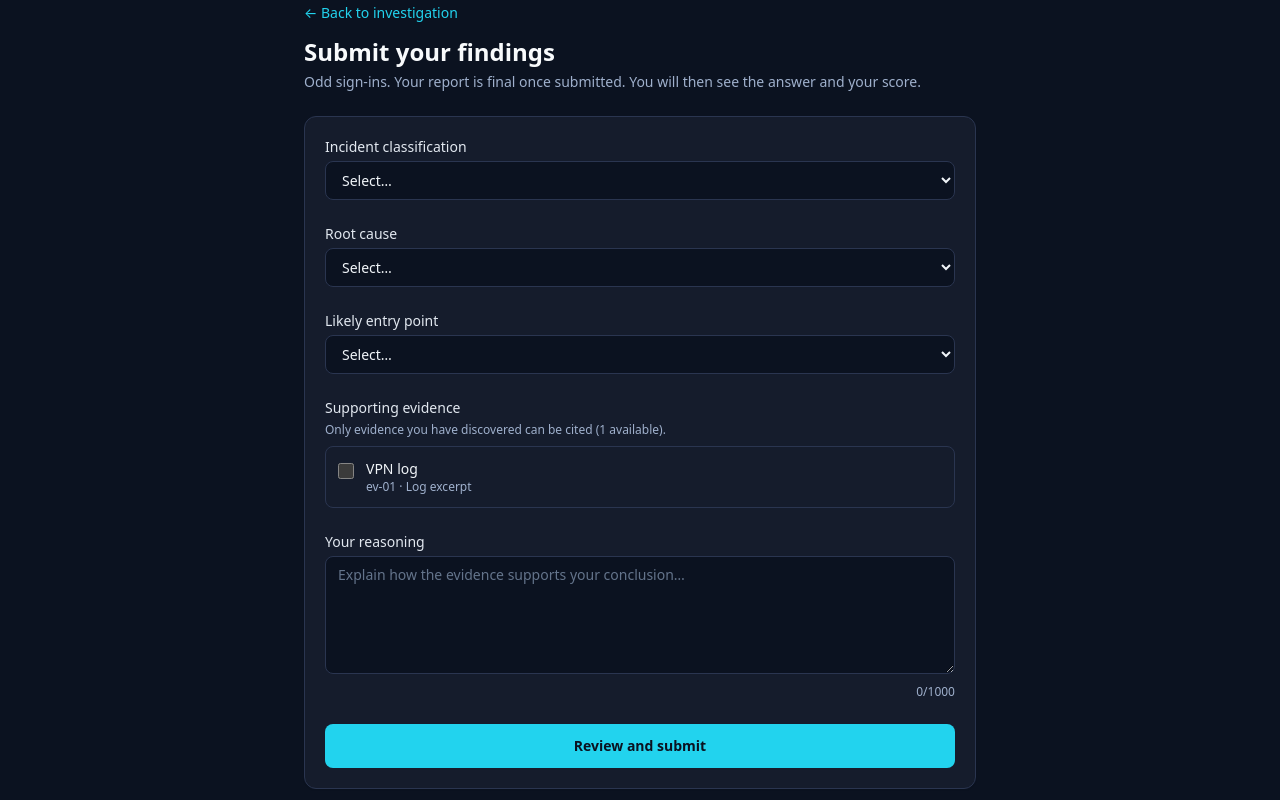
Scenario: SubmitFindings page › asks for confirmation, then submits and moves to the results page
Select "Credential stuffing" in the dropdown labelled "Incident classification" at (640, 180), box [325, 161, 955, 200]
Select "Missing MFA" in the dropdown labelled "Root cause" at (640, 268), box [325, 248, 955, 287]
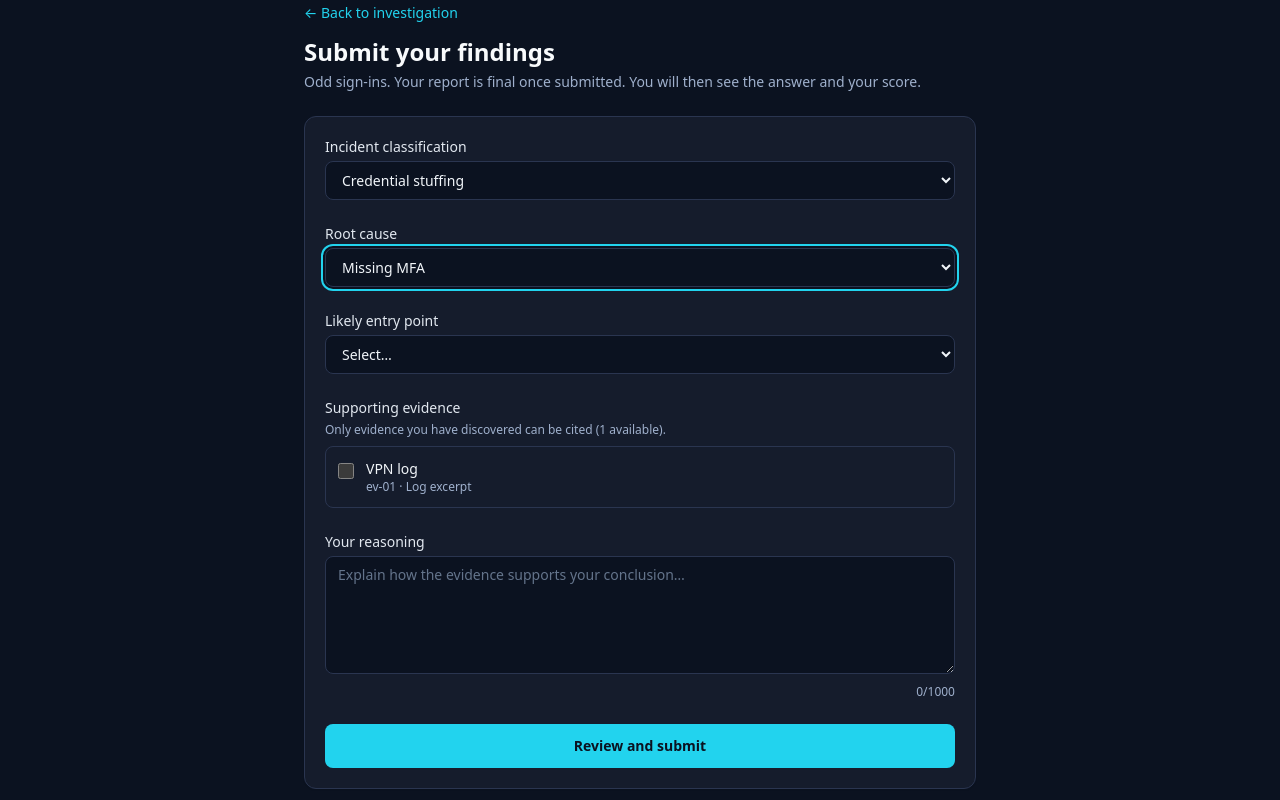
Select "VPN portal" in the dropdown labelled "Likely entry point" at (640, 354), box [325, 335, 955, 374]
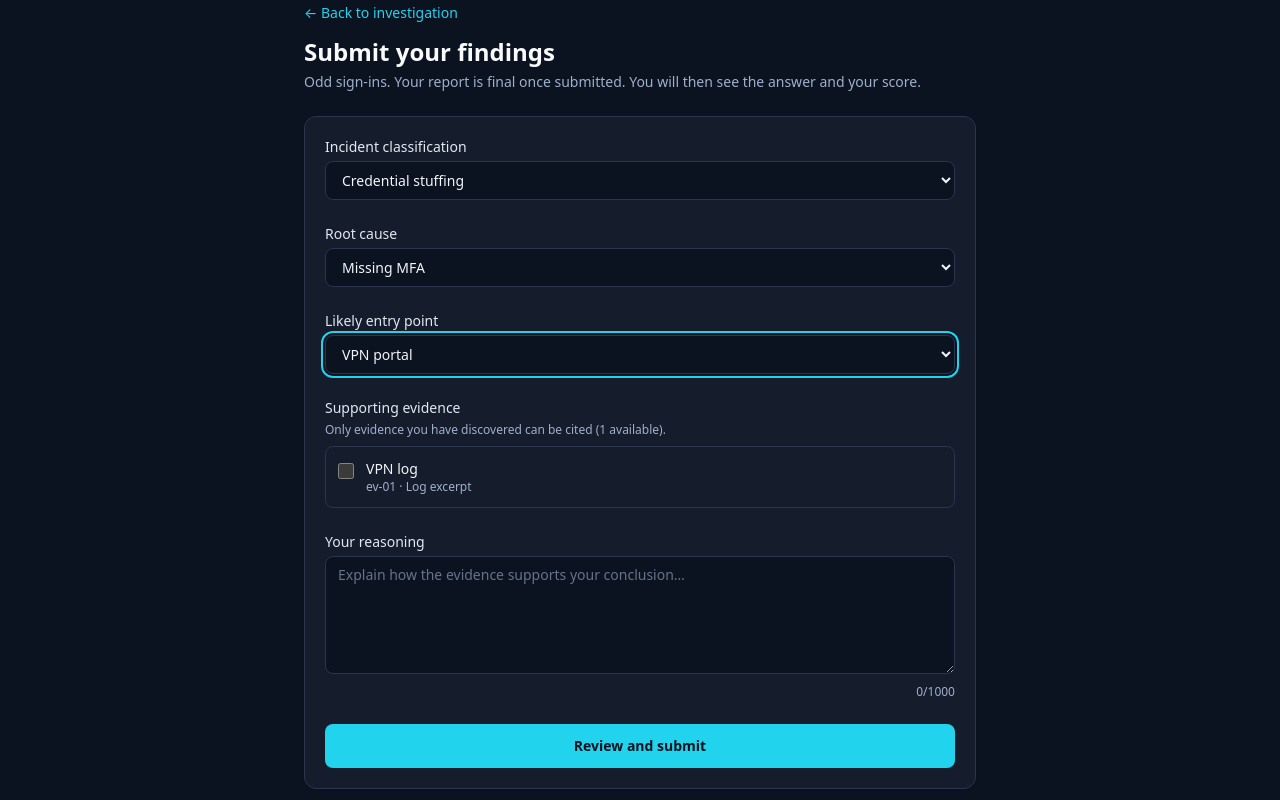
Click the checkbox labelled "VPN log ev-01 · Log excerpt" at (346, 471), box [338, 463, 354, 479]
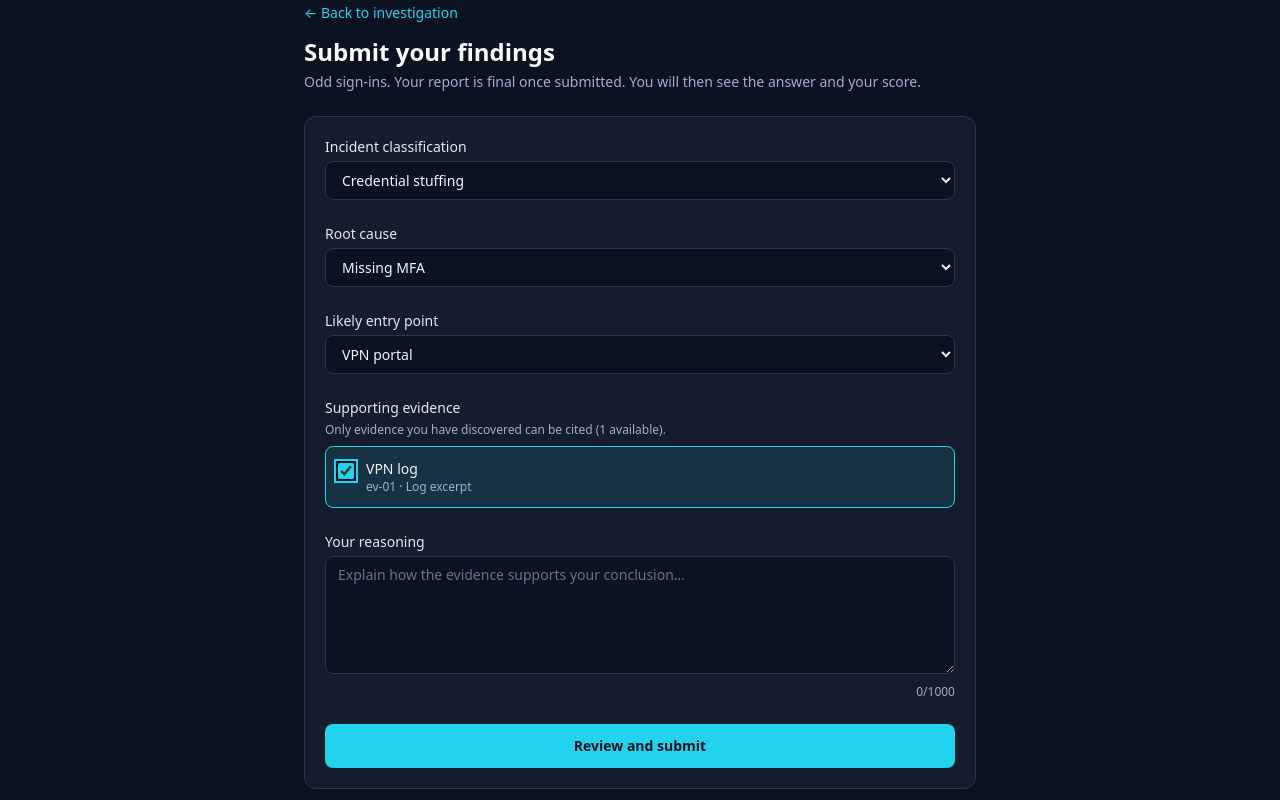
Type "Many failed logins then a success." into the text box labelled "Your reasoning" at (640, 615), box [325, 556, 955, 674]
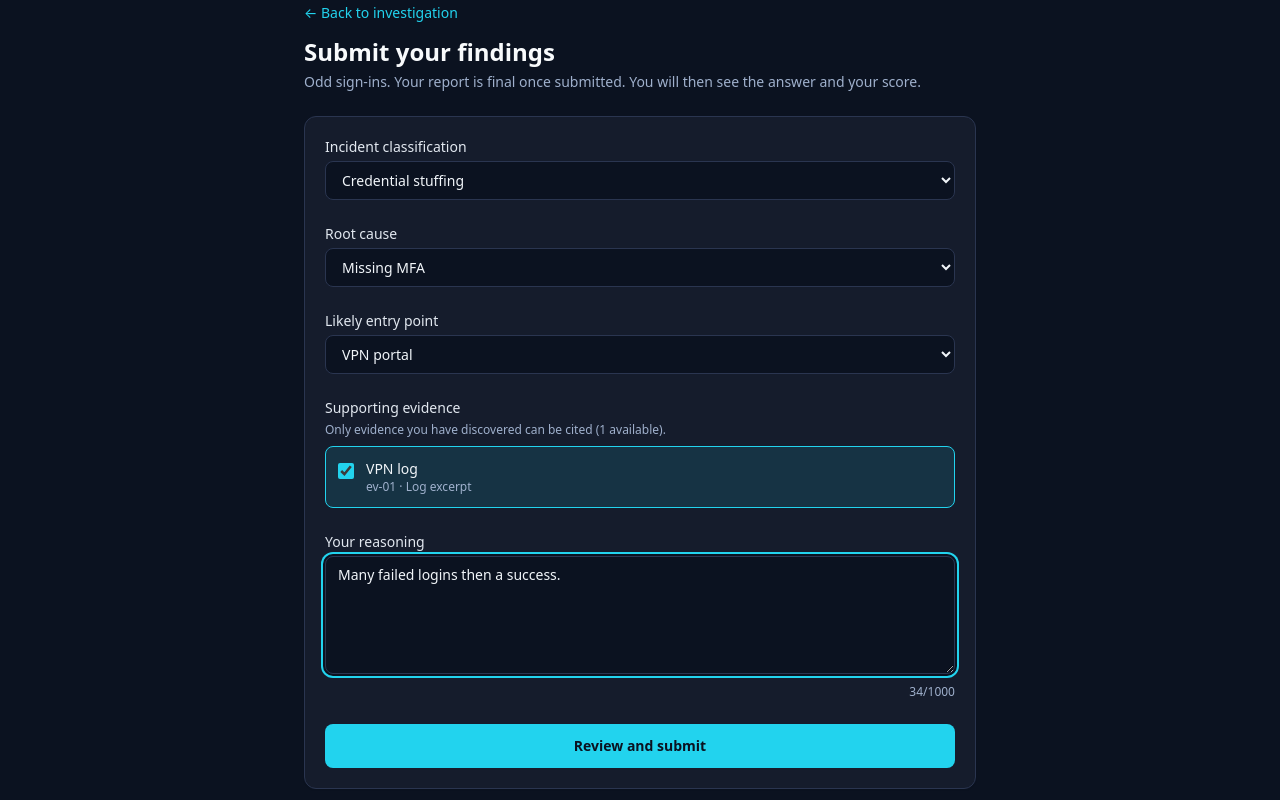
Click the button "Review and submit" at (640, 746), box [325, 724, 955, 768]
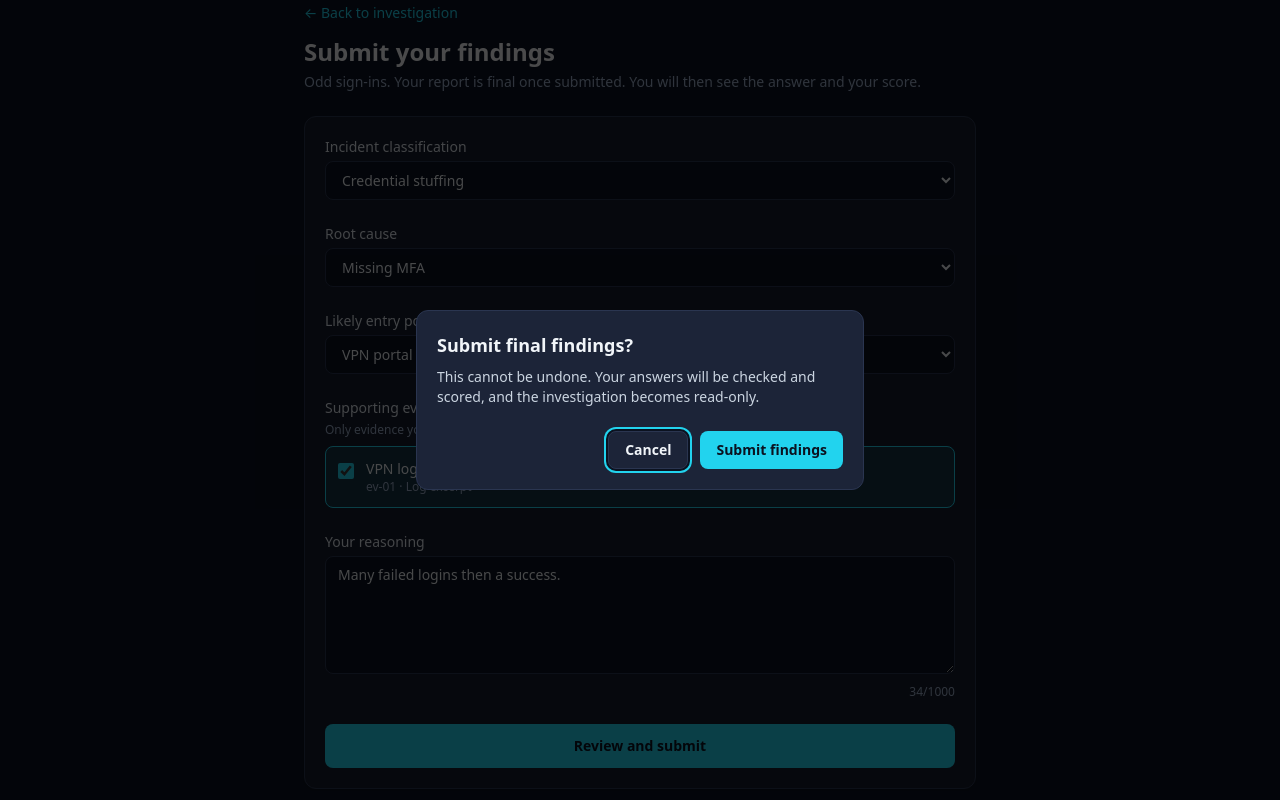
Now the dialog is shown, box [416, 310, 864, 490]
Click the button "Submit findings" at (772, 450), box [700, 431, 843, 469]
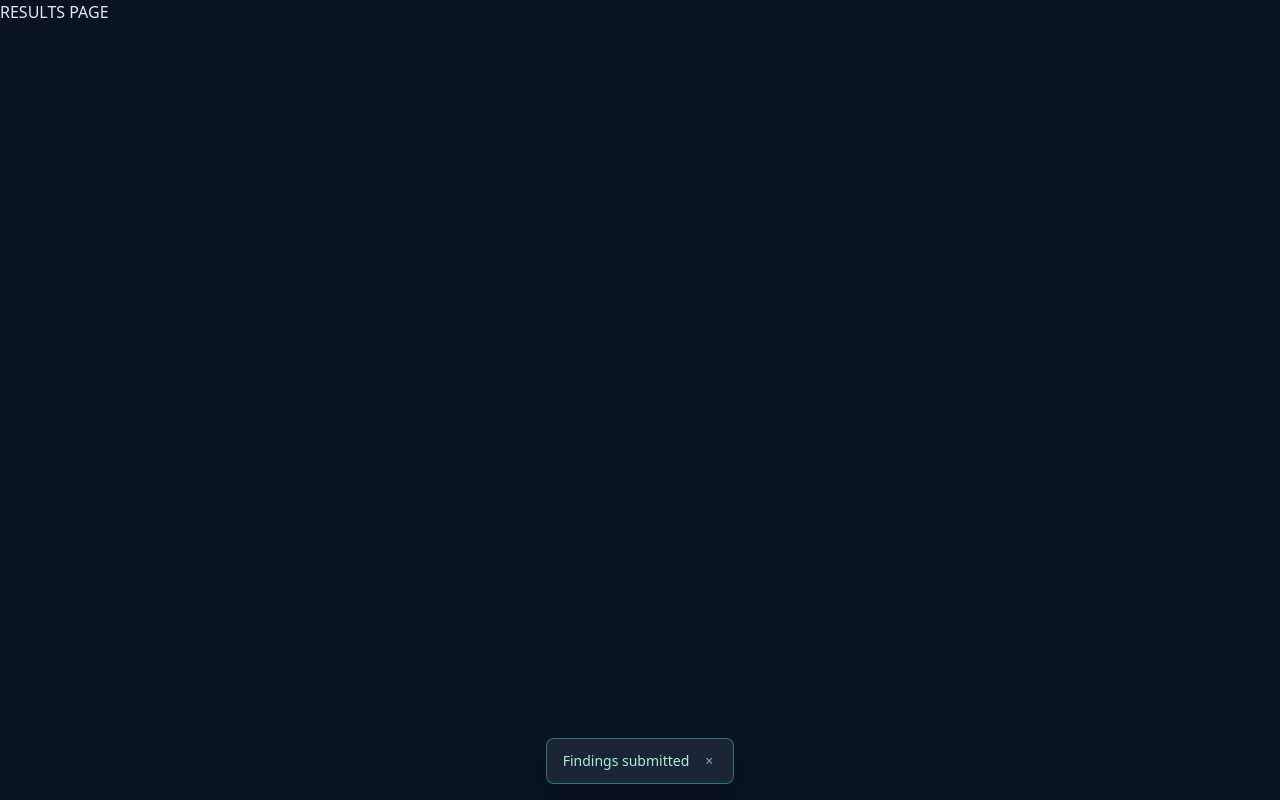
Now the text "RESULTS PAGE" is shown, box [0, 1, 109, 23]
